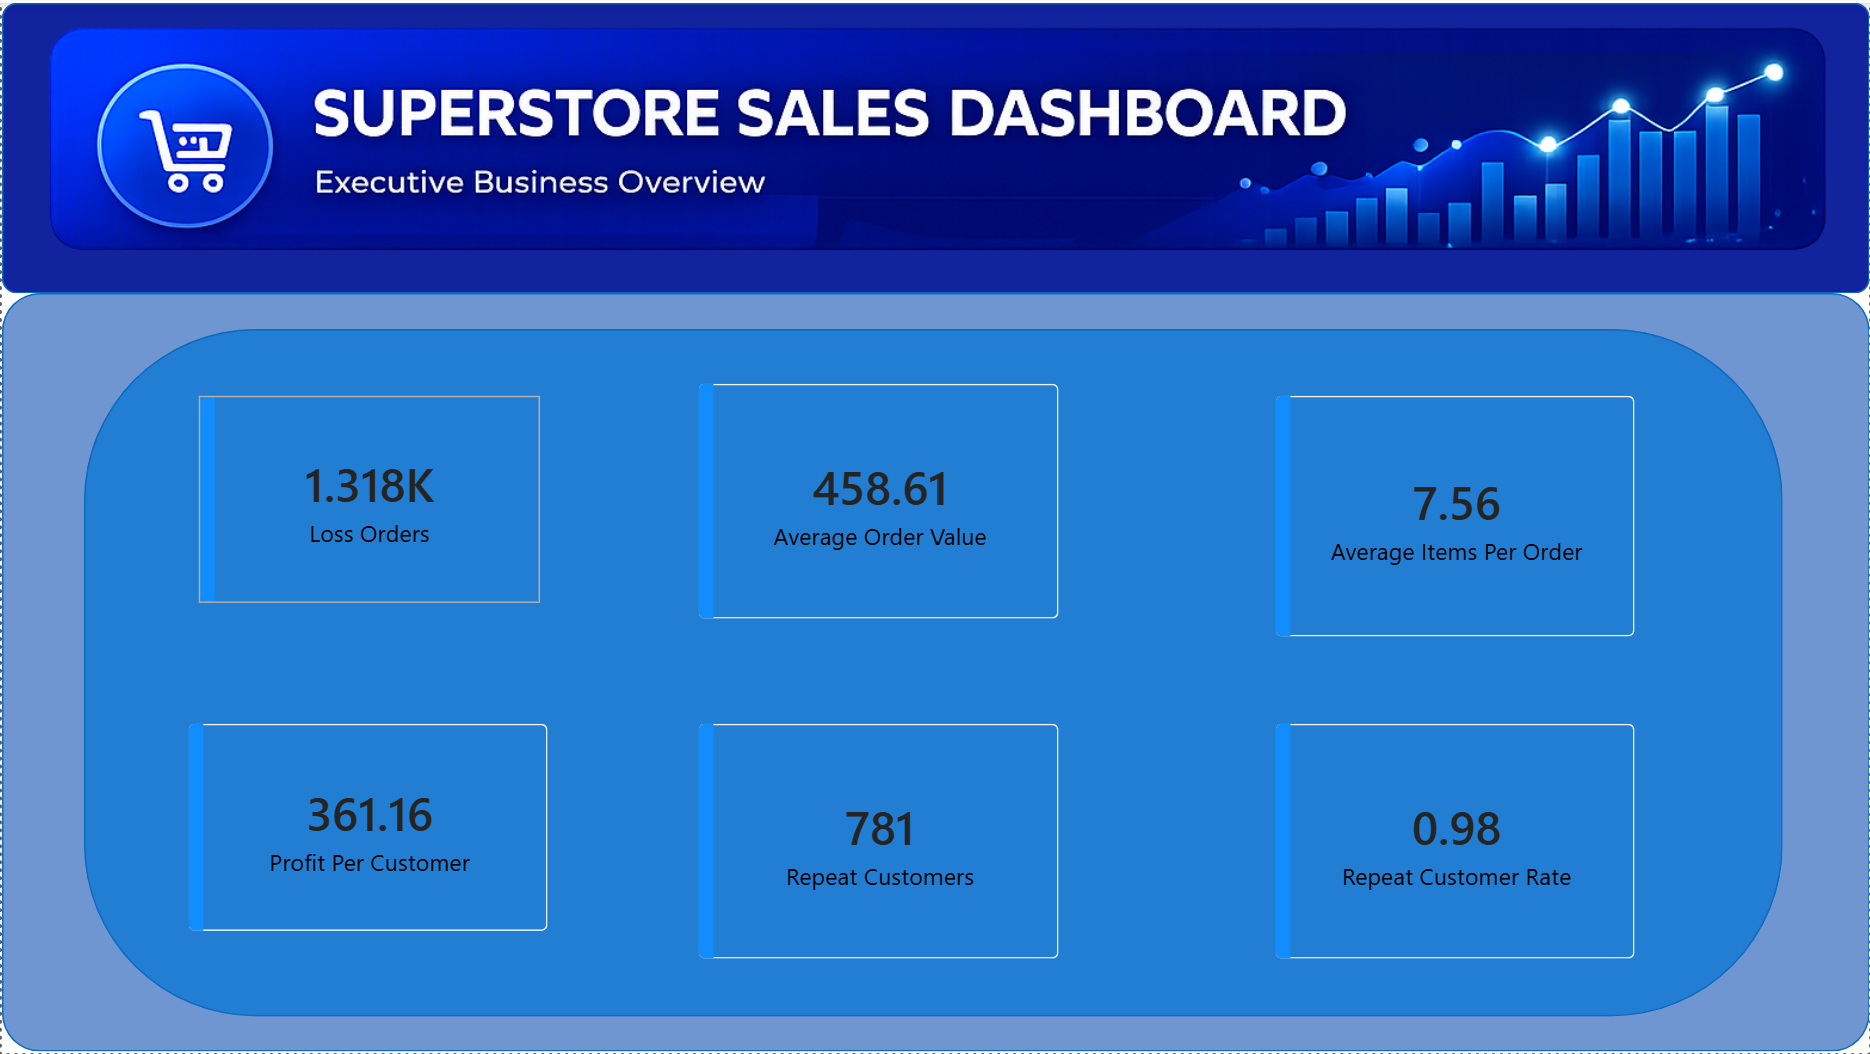

This screenshot's page, from the dashboard's own definition file:
{"tool":"powerbi","page":{"name":"Page 1","canvas":[1280,720],"ordinal":0},"visuals":[{"type":"shape","box":[0,199.1,1280,520.1],"z":0},{"type":"shape","box":[56.9,223.5,1164.2,471.4],"z":500},{"type":"shape","box":[0,0,1280,199.1],"z":1000},{"type":"cardVisual","fields":{"Data":["MTable.Customer Lifetime Value"]},"box":[117.8,251.9,268.2,176.8],"z":2000},{"type":"cardVisual","fields":{"Data":["MTable.Average Order Value"]},"box":[461.2,243.8,280.4,195],"z":3000},{"type":"cardVisual","fields":{"Data":["MTable.Repeat Customers"]},"box":[461.2,477.5,280.4,195],"z":4000},{"type":"cardVisual","fields":{"Data":["MTable.Profit Per Customer"]},"box":[111.7,477.5,280.4,176.8],"z":5000},{"type":"cardVisual","fields":{"Data":["MTable.Average Items Per Order"]},"box":[855.4,251.9,280.4,199.1],"z":6000},{"type":"cardVisual","fields":{"Data":["MTable.Repeat Customer Rate"]},"box":[855.4,477.5,280.4,195],"z":7000},{"type":"image","box":[0,10.2,1280,176.8],"z":8000}]}

Visuals, with their boxes in screenshot pixels (x1, y1, x2, y2), scaled from the page's 1280x720 canvas onto the 1870x1054 screenshot:
shape: <bbox>0, 291, 1869, 1053</bbox>
shape: <bbox>83, 327, 1784, 1017</bbox>
shape: <bbox>0, 0, 1869, 291</bbox>
cardVisual - MTable.Customer Lifetime Value: <bbox>172, 369, 564, 628</bbox>
cardVisual - MTable.Average Order Value: <bbox>674, 357, 1083, 642</bbox>
cardVisual - MTable.Repeat Customers: <bbox>674, 699, 1083, 984</bbox>
cardVisual - MTable.Profit Per Customer: <bbox>163, 699, 573, 958</bbox>
cardVisual - MTable.Average Items Per Order: <bbox>1250, 369, 1659, 660</bbox>
cardVisual - MTable.Repeat Customer Rate: <bbox>1250, 699, 1659, 984</bbox>
image: <bbox>0, 15, 1869, 274</bbox>
